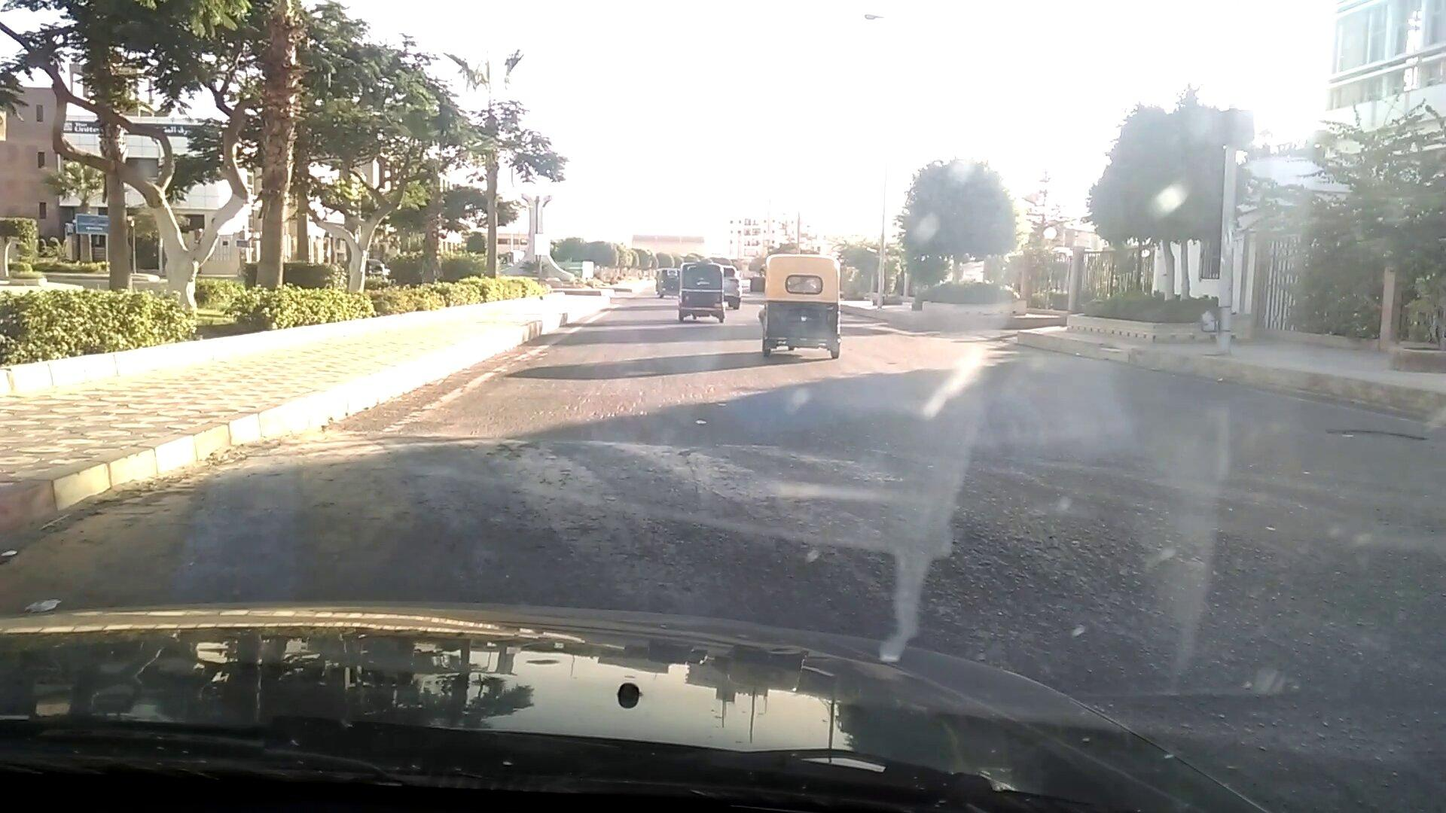Bump: (297, 420, 1403, 676)
